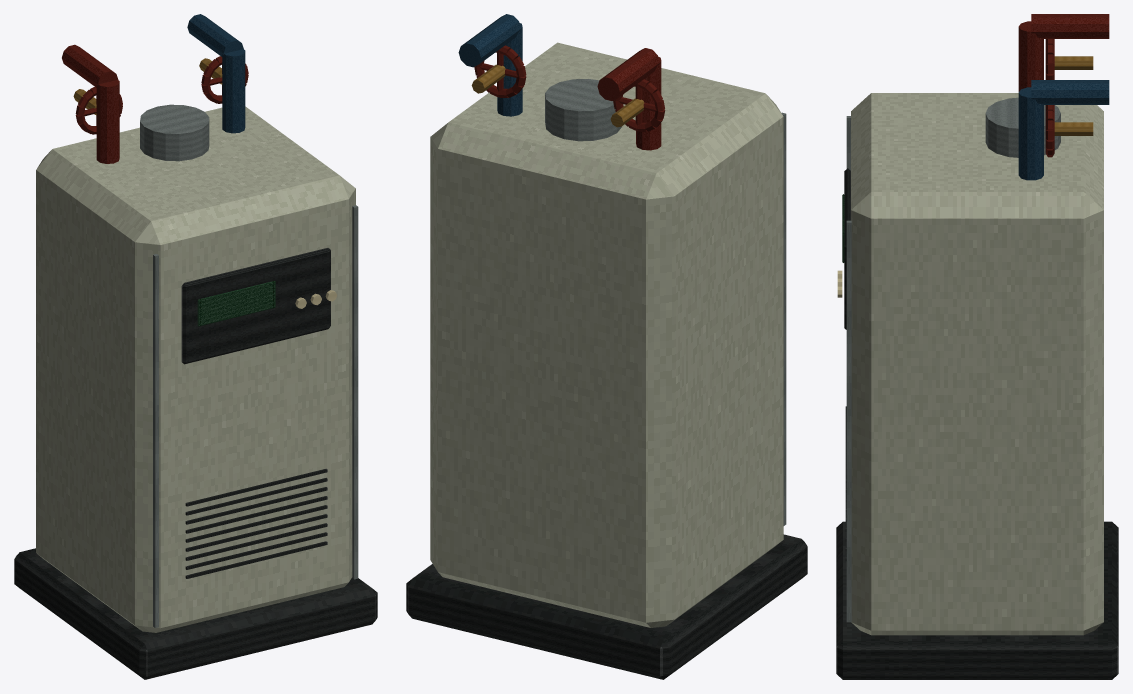
File: level_boiler_modern.glb
The picture shows the model from 3 angles, left to right: view 1: azimuth 30°, elevation 25°; view 2: azimuth 150°, elevation 25°; view 3: azimuth 270°, elevation 25°; orthographic projection. The views are drawn at different scales.
Visible parts, largest first — view 1: level_boiler_modern; view 2: level_boiler_modern; view 3: level_boiler_modern.
Boxes of the visible parts, x1,y1,x2,y2 form: level_boiler_modern: (14,14,377,679); level_boiler_modern: (406,14,807,679); level_boiler_modern: (836,14,1118,679).
Bounding box in the file's own units: 1.1 × 2.34 × 1.05.
8 materials, 8 textured.
